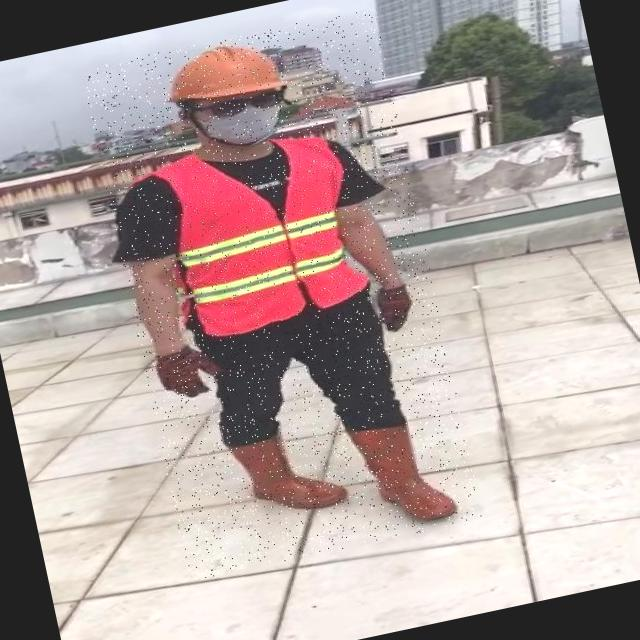boots: (348, 414, 460, 534), (226, 422, 348, 524)
gloves: (108, 332, 208, 446), (328, 255, 426, 354)
helmet: (156, 30, 290, 114)
vest: (153, 127, 374, 340)
